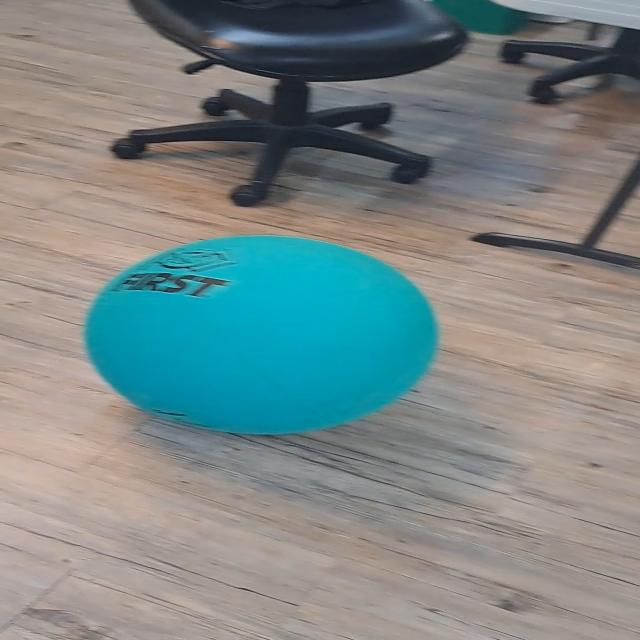ALGAE: (81, 232, 441, 436)
